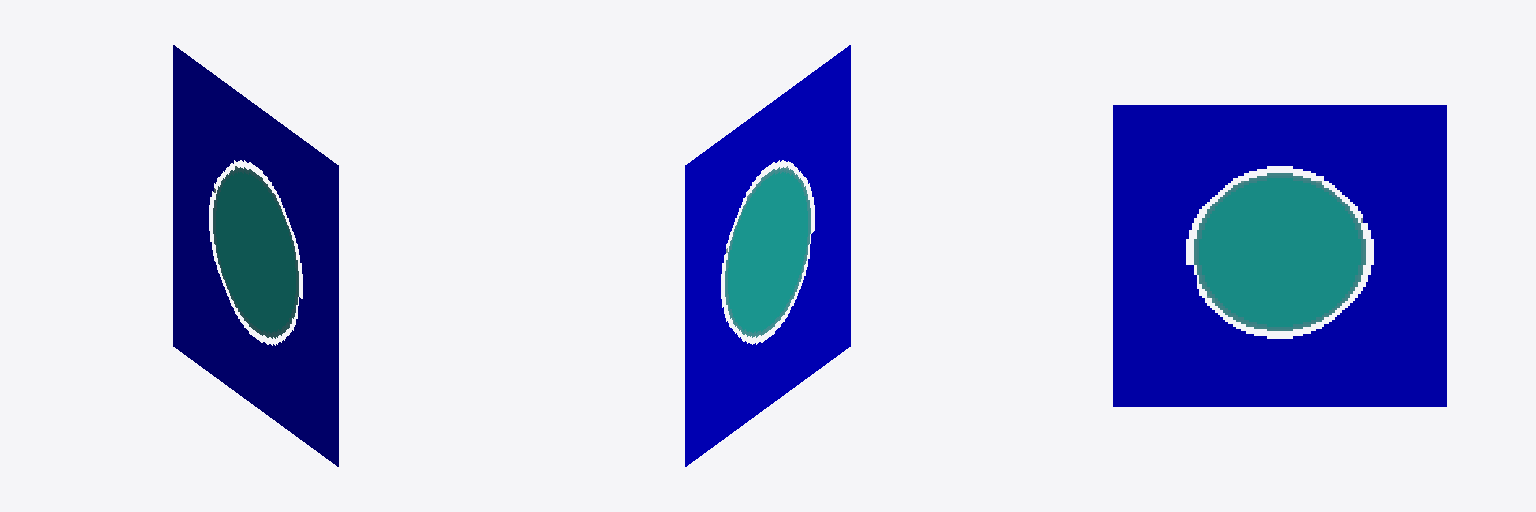
3 views of the same model, side by side, from view 1: azimuth 30°, elevation 25°; view 2: azimuth 150°, elevation 25°; view 3: azimuth 270°, elevation 25° (orthographic).
Visible parts, largest first — view 1: 平面; view 2: 平面; view 3: 平面.
Boxes of the visible parts, <box> form: 平面: <box>173,45,338,466</box>; 平面: <box>685,45,850,466</box>; 平面: <box>1113,105,1446,406</box>.
Bounding box in the file's own units: 0 × 2 × 2.
Materials: 1 (1 with a texture image).